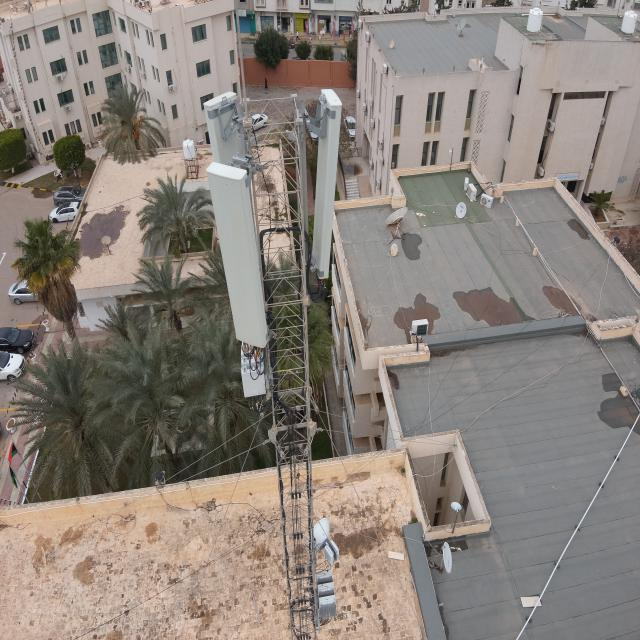antenna: (207, 158, 275, 352), (207, 82, 265, 283), (308, 87, 343, 284)
lighnig-rad: (232, 0, 250, 121)
microware-dish: (308, 514, 344, 564)
power-box: (312, 567, 339, 624)
radio-unit: (236, 348, 268, 400)
